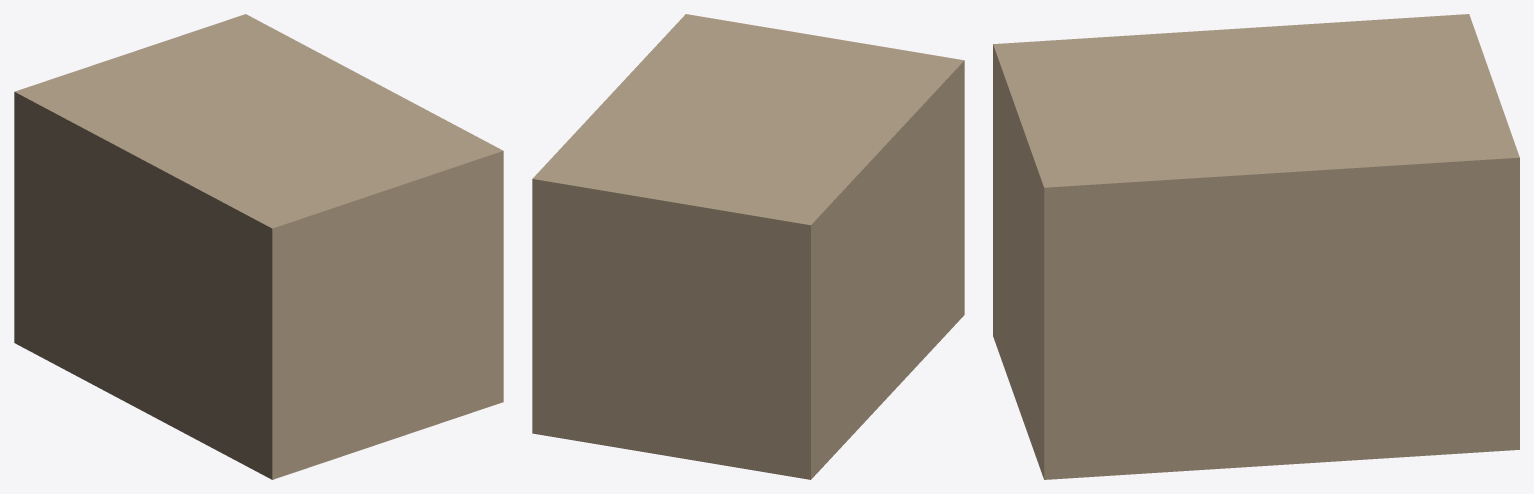
The model's file is bld_107639008.dae.
3 renders of one model, left to right at view 1: azimuth 30°, elevation 25°; view 2: azimuth 150°, elevation 25°; view 3: azimuth 270°, elevation 25°, orthographic. The views are drawn at different scales.
Visible parts, largest first — view 1: bld_107639008; view 2: bld_107639008; view 3: bld_107639008.
Part boxes in pixels (x1,y1,x2,y2): bld_107639008: [14, 14, 503, 479]; bld_107639008: [532, 14, 964, 479]; bld_107639008: [993, 14, 1519, 479].
Bounding box in the file's own units: 10.2 × 13.07 × 8.
